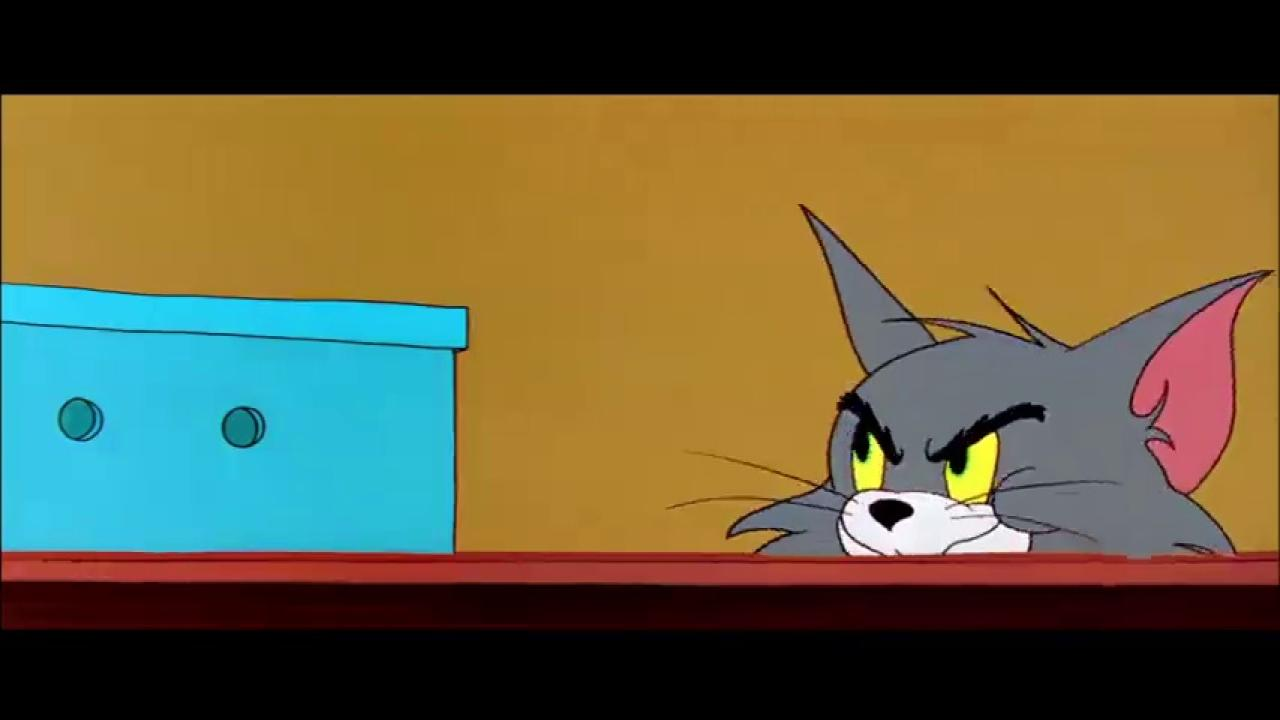Tom: (724, 200, 1274, 555)
